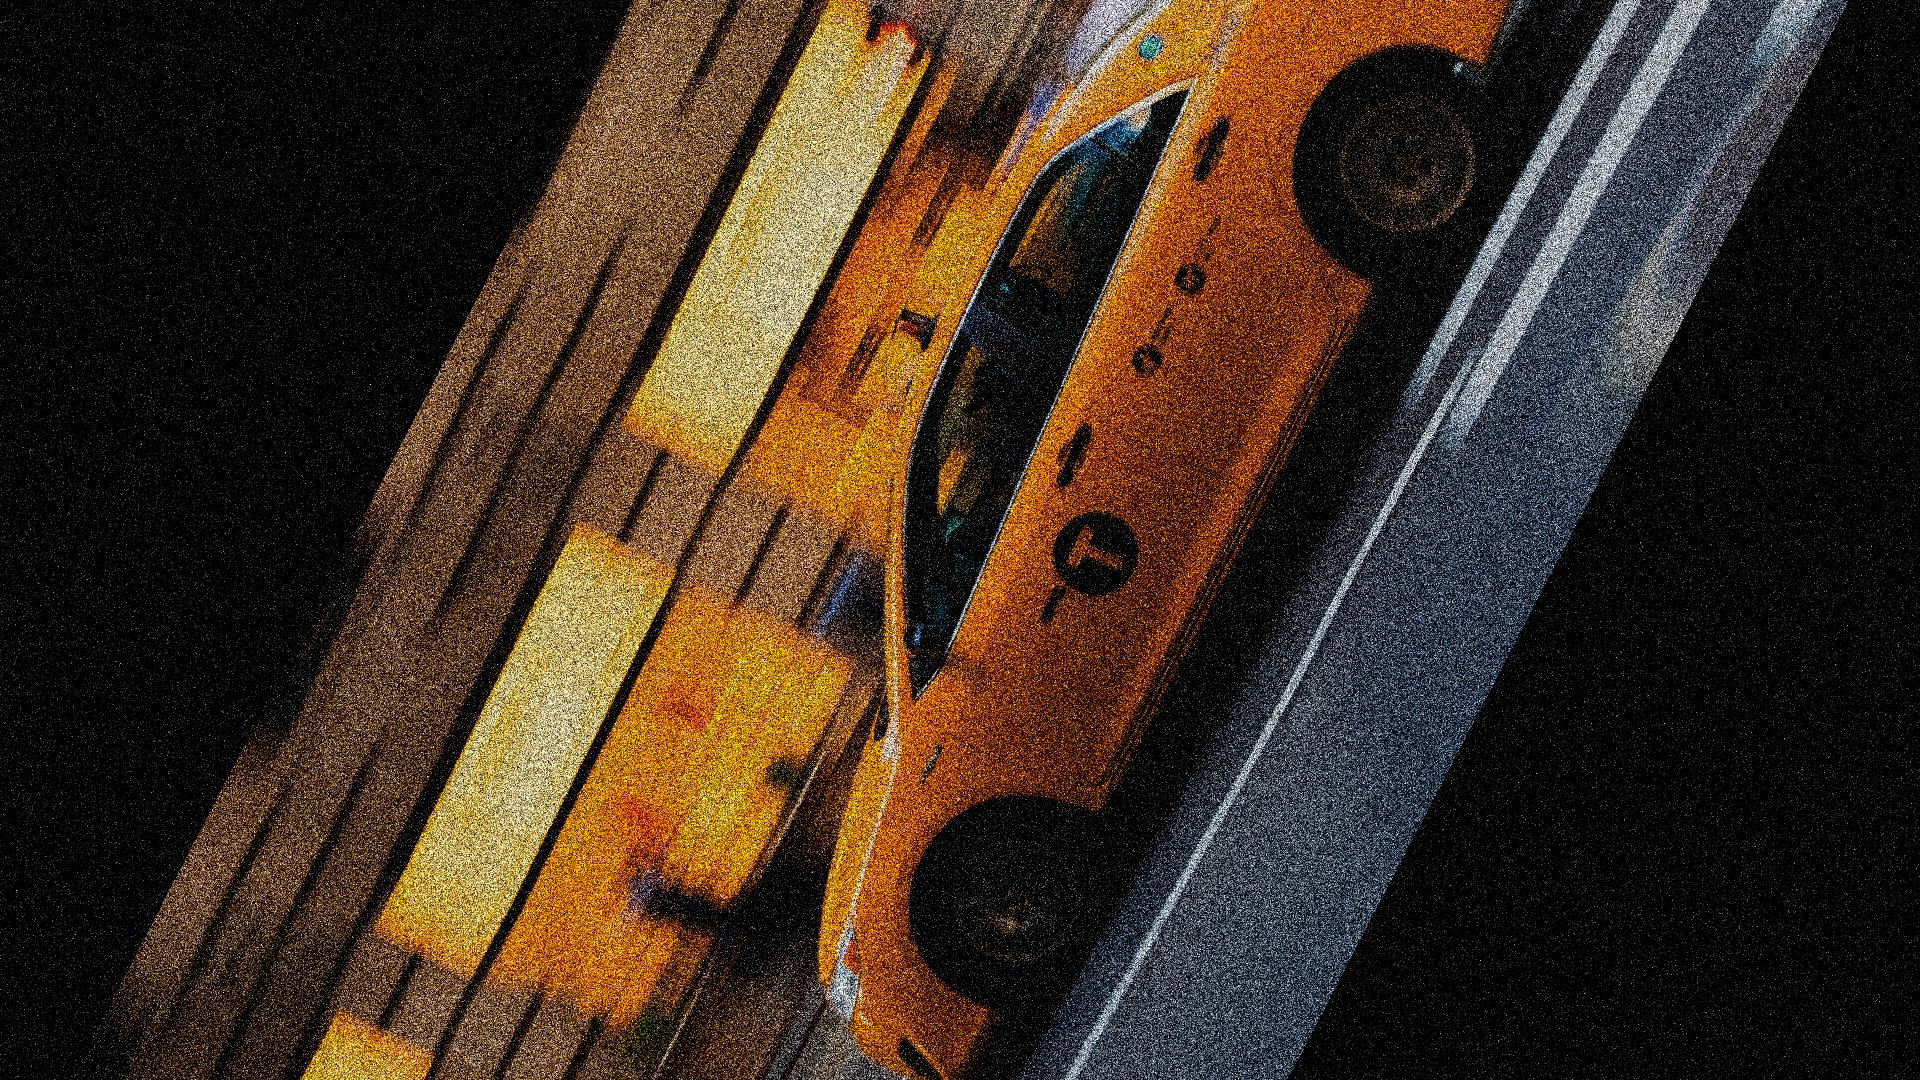taxi: (800, 1, 1480, 1062)
